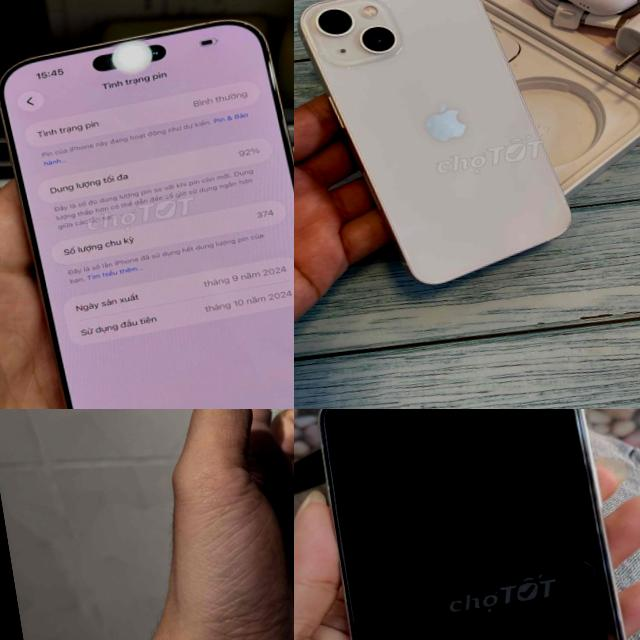gen_12_13: (294, 0, 584, 302)
gen_15: (294, 409, 640, 640)
gen_16: (0, 20, 294, 409)
